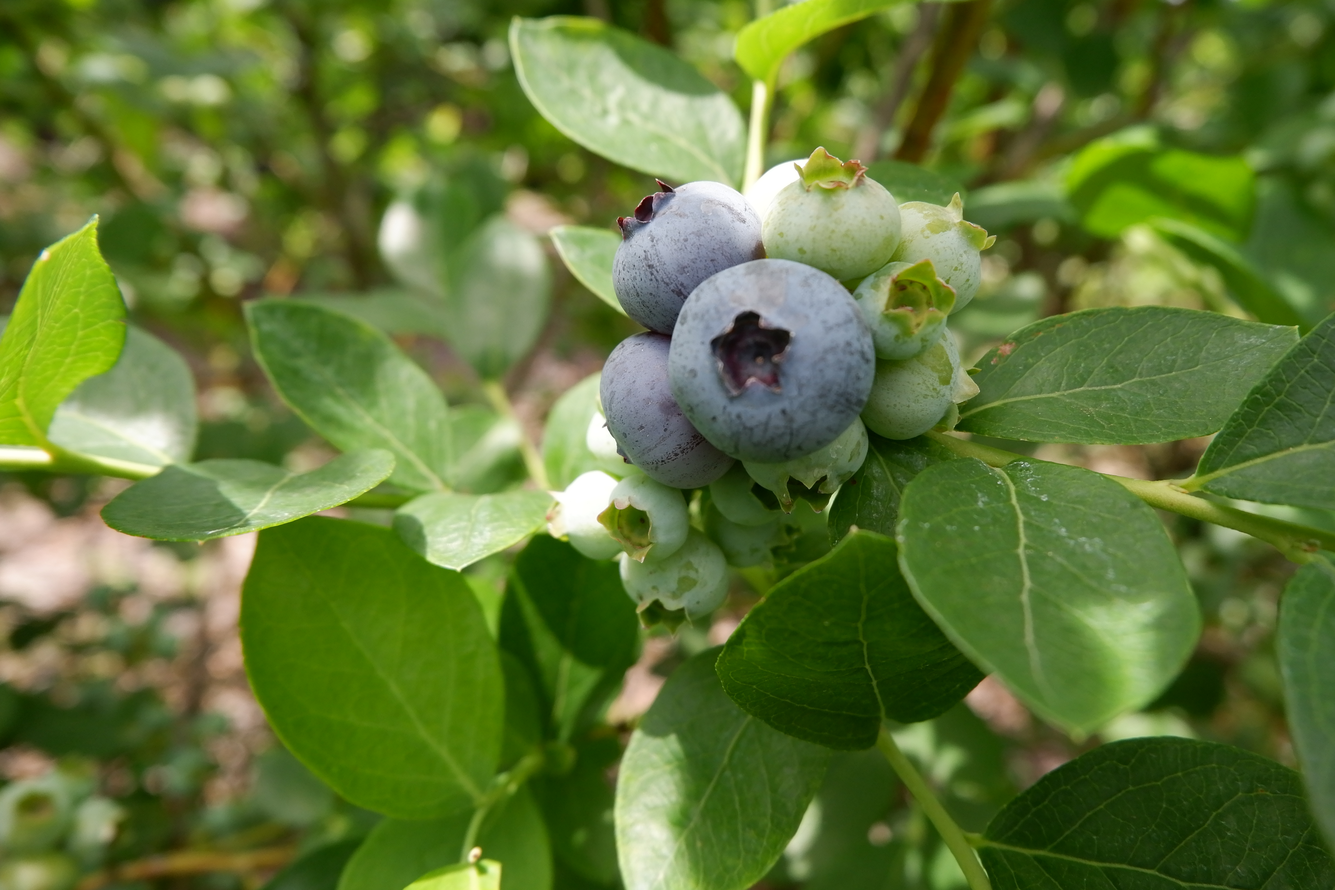Immature: (764, 155, 898, 278), (865, 330, 982, 437), (743, 420, 868, 515), (624, 529, 727, 640), (892, 199, 988, 310), (857, 266, 950, 357), (597, 473, 687, 559), (701, 496, 804, 570), (549, 473, 617, 558), (708, 460, 785, 526), (751, 161, 801, 218), (589, 414, 629, 471)
Mature: (672, 263, 872, 459), (616, 183, 764, 329), (603, 334, 731, 484)
